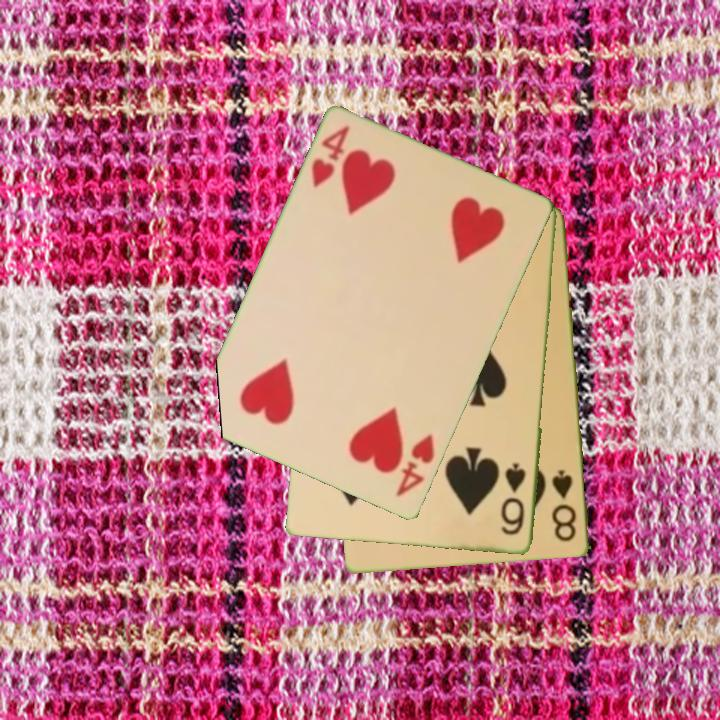4h: (393, 431, 438, 501), (308, 122, 353, 191)
6s: (498, 460, 529, 539)
8s: (548, 467, 580, 545)
